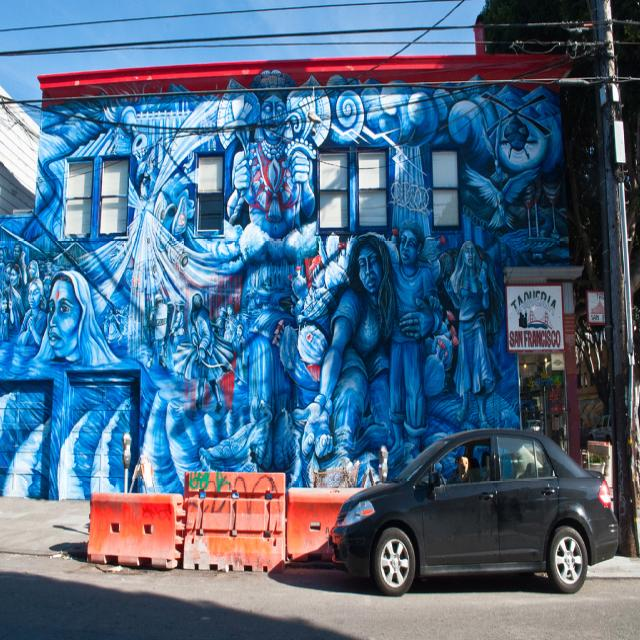car: (314, 431, 606, 606)
